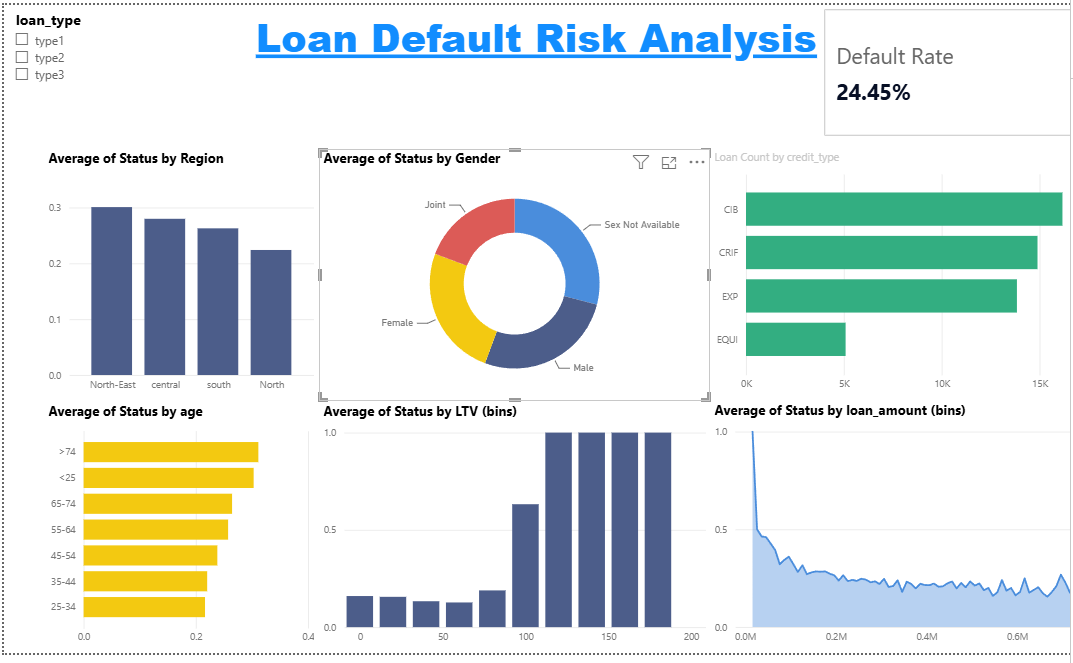

The page's visual inventory and layout, read from the dashboard file:
{"tool":"powerbi","page":{"name":"Dashboard","canvas":[1280,720],"ordinal":0},"visuals":[{"type":"columnChart","fields":{"Category":["loan_sample.Region"],"Y":["Avg(loan_sample.Status)"]},"box":[44.7,160.5,305.4,280.1],"z":0},{"type":"clusteredBarChart","fields":{"Category":["loan_sample.age"],"Y":["Avg(loan_sample.Status)"]},"box":[44.7,440.6,305.4,279.1],"z":1000},{"type":"clusteredBarChart","fields":{"Category":["loan_sample.Gender"],"Y":["Avg(loan_sample.Status)"]},"box":[350.2,160.5,434.8,279.1],"z":2000},{"type":"donutChart","fields":{"Category":["loan_sample.loan_type"],"Y":["Avg(loan_sample.Status)"]},"box":[784.9,160.5,495.1,280.1],"z":3000},{"type":"clusteredColumnChart","fields":{"Y":["Avg(loan_sample.Status)"],"Category":["loan_sample.LTV (bins)"]},"box":[350.2,440.6,434.8,279.1],"z":4000},{"type":"areaChart","fields":{"Category":["loan_sample.loan_amount (bins)"],"Y":["Avg(loan_sample.Status)"]},"box":[784.9,439.6,459.1,280.1],"z":5000},{"type":"textbox","box":[146.3,0,889.8,71.4],"z":6000},{"type":"slicer","fields":{"Values":["loan_sample.loan_type"]},"box":[0,0,127.3,149.9],"z":6001},{"type":"cardVisual","fields":{"Data":["Table.Default Rate"]},"box":[906.7,0,365.6,150],"z":6002}]}

Visuals, with their boxes on the page's 1280x720 design canvas (x1, y1, x2, y2). These are canvas units, not pixel positions in the 1073x663 screenshot, which may show the page scaled, cropped or inside an application window:
columnChart - loan_sample.Region x Avg(loan_sample.Status): {"x1": 45, "y1": 160, "x2": 350, "y2": 441}
clusteredBarChart - loan_sample.age x Avg(loan_sample.Status): {"x1": 45, "y1": 441, "x2": 350, "y2": 720}
clusteredBarChart - loan_sample.Gender x Avg(loan_sample.Status): {"x1": 350, "y1": 160, "x2": 785, "y2": 440}
donutChart - loan_sample.loan_type x Avg(loan_sample.Status): {"x1": 785, "y1": 160, "x2": 1280, "y2": 441}
clusteredColumnChart - Avg(loan_sample.Status) x loan_sample.LTV (bins): {"x1": 350, "y1": 441, "x2": 785, "y2": 720}
areaChart - loan_sample.loan_amount (bins) x Avg(loan_sample.Status): {"x1": 785, "y1": 440, "x2": 1244, "y2": 720}
textbox: {"x1": 146, "y1": 0, "x2": 1036, "y2": 71}
slicer - loan_sample.loan_type: {"x1": 0, "y1": 0, "x2": 127, "y2": 150}
cardVisual - Table.Default Rate: {"x1": 907, "y1": 0, "x2": 1272, "y2": 150}
